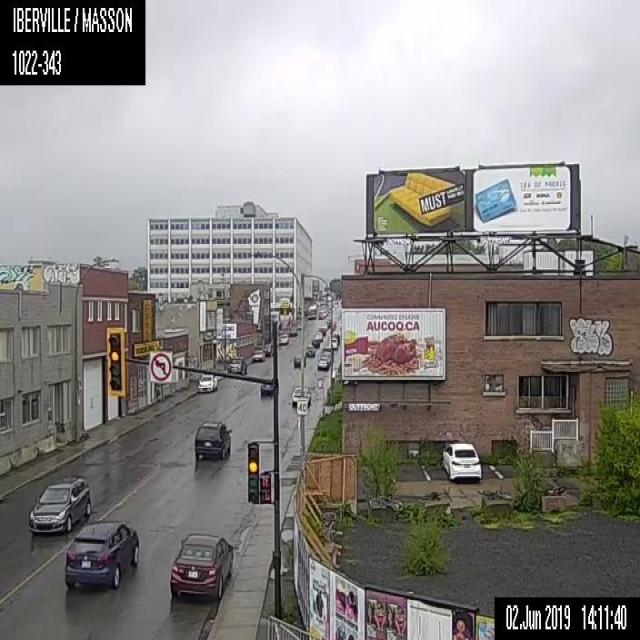bus: (306, 303, 316, 319)
vehicle: (64, 520, 139, 589), (168, 531, 234, 600), (27, 474, 90, 535), (440, 440, 482, 483), (193, 418, 231, 462), (197, 372, 218, 392), (290, 386, 311, 406), (226, 355, 246, 374), (259, 381, 274, 396), (292, 353, 306, 369), (316, 355, 329, 370), (252, 348, 264, 362), (262, 343, 273, 356), (327, 336, 338, 349), (277, 333, 288, 344), (304, 344, 314, 356), (314, 329, 322, 341), (287, 327, 297, 336), (331, 332, 339, 343), (311, 336, 319, 346), (296, 324, 304, 329)
